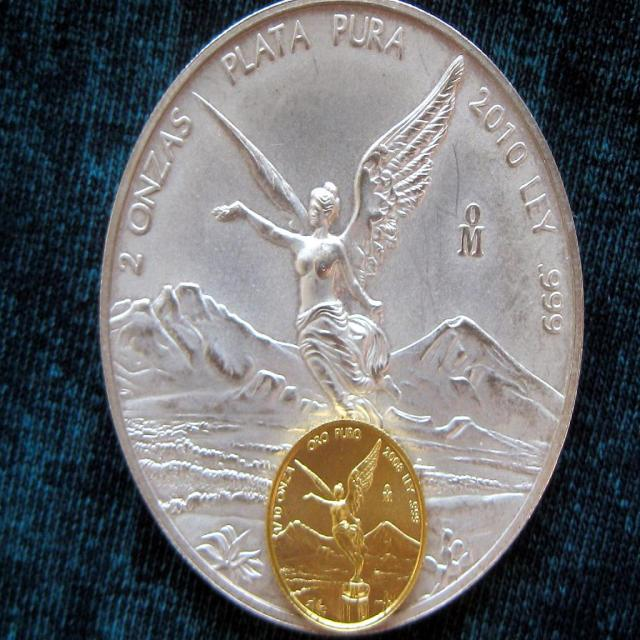Coin: (96, 0, 587, 637), (262, 411, 424, 637)
